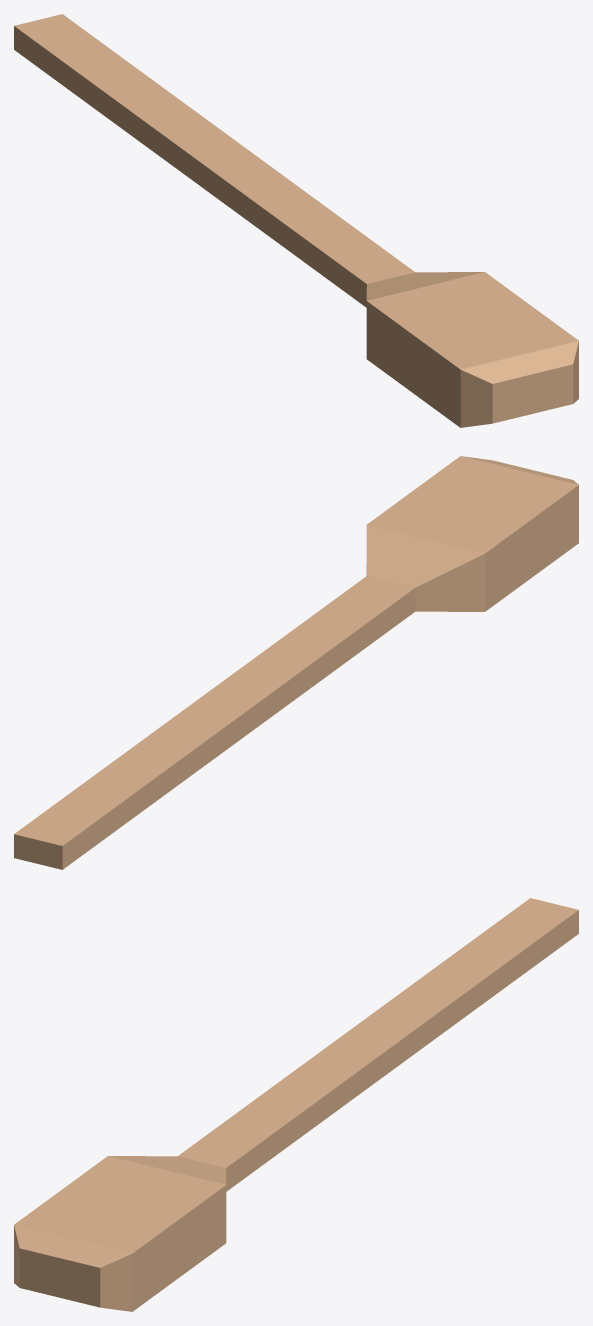
File: paddle.glb
3 views of the same model, one above another, from view 1: azimuth 30°, elevation 25°; view 2: azimuth 150°, elevation 25°; view 3: azimuth 330°, elevation 25° (orthographic).
Visible parts, largest first — view 1: paddle; view 2: paddle; view 3: paddle.
Part boxes in pixels (<box>): paddle: <box>14,14,578,427</box>; paddle: <box>14,456,578,869</box>; paddle: <box>14,898,578,1311</box>.
Size of the model in its own units: 0.141 by 0.0664 by 1.02.
